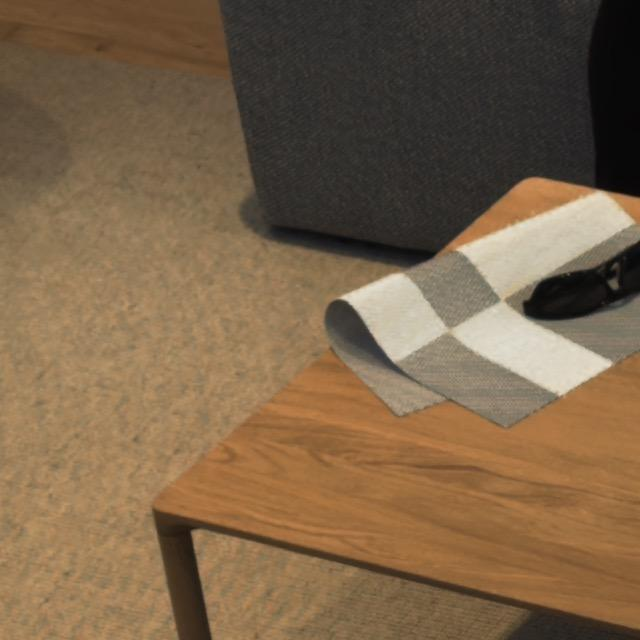Sunglasses: (525, 240, 640, 323)
